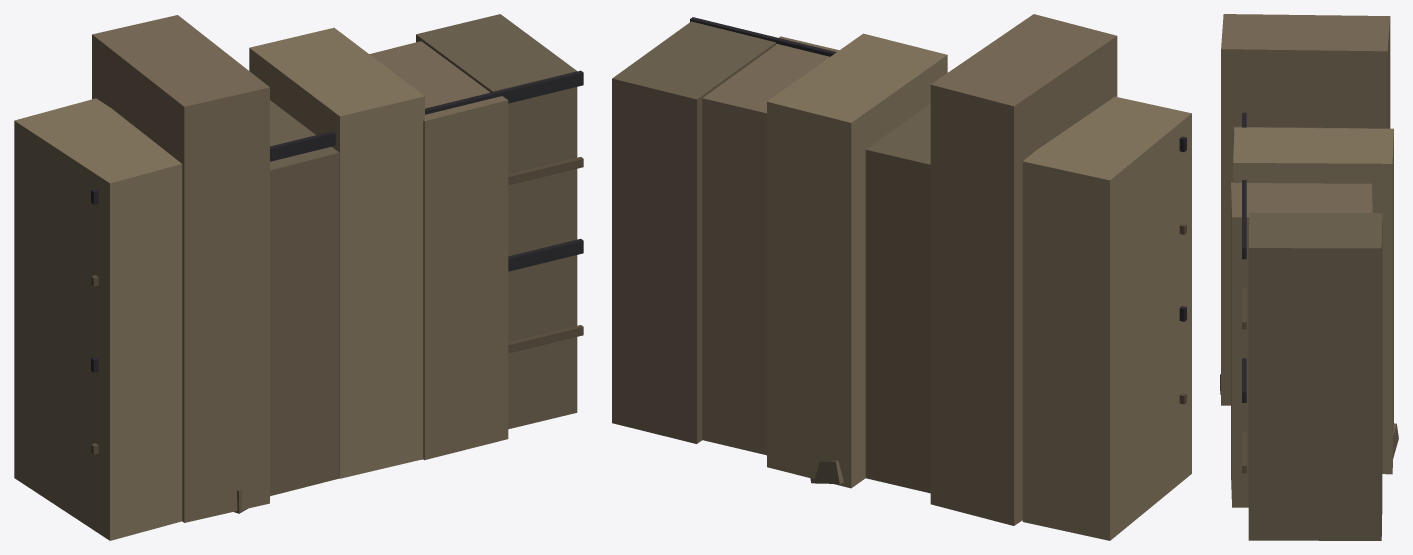
File: soegol_canyon_wall.glb
3 renders of one model, left to right at view 1: azimuth 30°, elevation 25°; view 2: azimuth 150°, elevation 25°; view 3: azimuth 270°, elevation 25°, orthographic. The views are drawn at different scales.
Parts seen in each view (by area): view 1: soegol_canyon_wall; view 2: soegol_canyon_wall; view 3: soegol_canyon_wall.
Boxes of the visible parts, box(x1,y1,x2,y2) form: soegol_canyon_wall: box(14, 14, 583, 540); soegol_canyon_wall: box(612, 14, 1191, 540); soegol_canyon_wall: box(1220, 14, 1398, 540).
Size of the model in its own units: 6.12 by 5.07 by 2.25.
